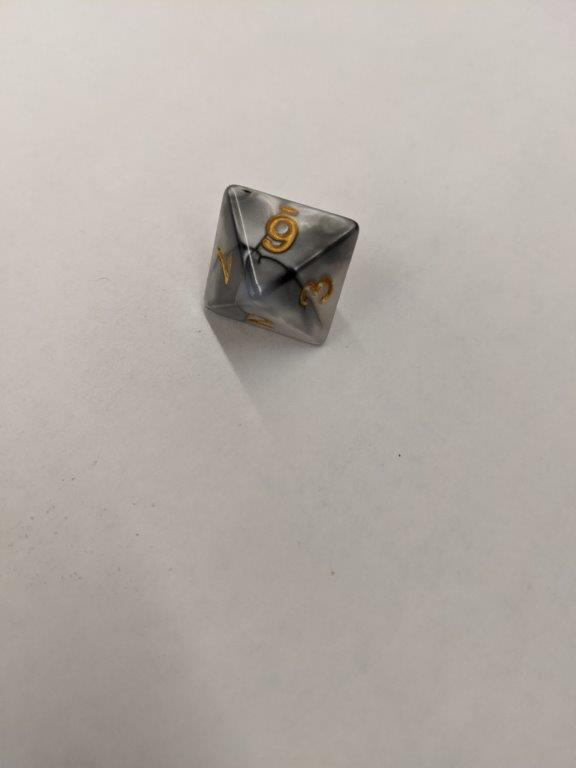d8-6: (197, 182, 362, 348)
